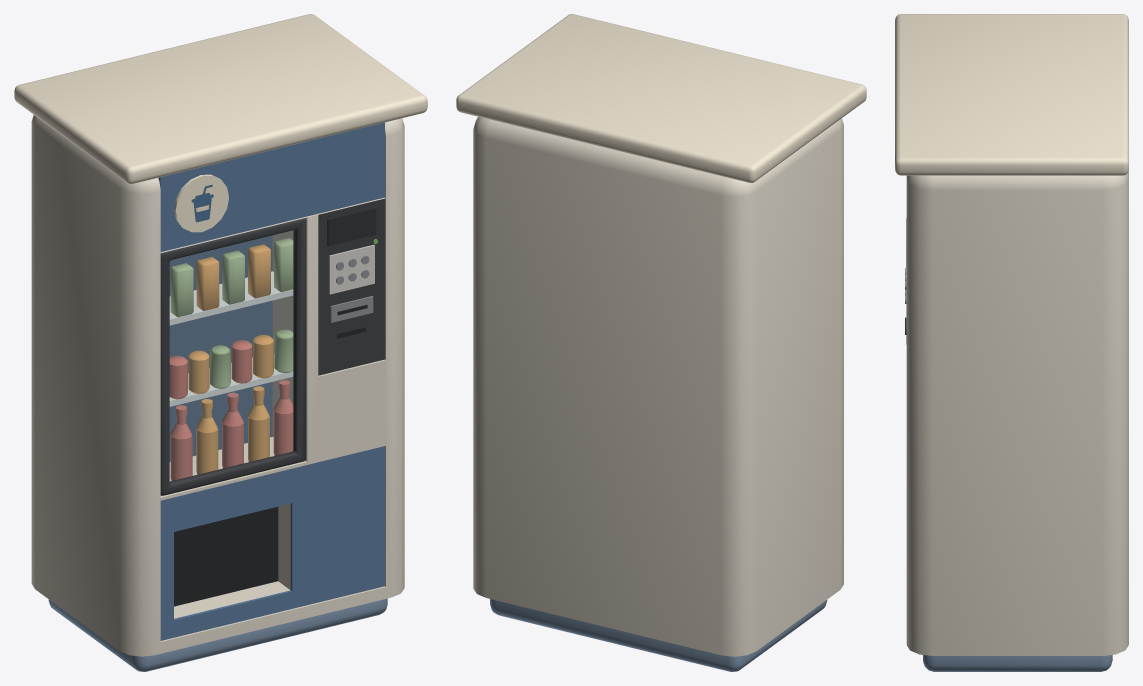
The model's file is distributeur.glb.
The picture shows the model from 3 angles, left to right: view 1: azimuth 30°, elevation 25°; view 2: azimuth 150°, elevation 25°; view 3: azimuth 270°, elevation 25°; orthographic projection.
Parts seen in each view (by area): view 1: DIS_Struct, DIS_Creme, DIS_Ardoise_Base, DIS_Vitre, DIS_Anthracite, DIS_Noir, DIS_Ardoise_Fonce, DIS_Prod_Ambre, DIS_Prod_Rouge, DIS_Prod_Vert, DIS_Ardoise_Clair, DIS_Etagere (+3 smaller); view 2: DIS_Struct, DIS_Creme, DIS_Ardoise_Clair; view 3: DIS_Struct, DIS_Creme, DIS_Ardoise_Clair.
Part boxes in pixels (x1,y1,x2,y2): DIS_Struct: [31, 115, 404, 656]; DIS_Creme: [14, 14, 427, 232]; DIS_Ardoise_Base: [158, 122, 384, 640]; DIS_Vitre: [170, 231, 292, 480]; DIS_Anthracite: [160, 198, 384, 495]; DIS_Noir: [174, 305, 367, 606]; DIS_Ardoise_Fonce: [169, 235, 272, 461]; DIS_Prod_Ambre: [188, 244, 273, 474]; DIS_Prod_Rouge: [169, 340, 293, 480]; DIS_Prod_Vert: [170, 238, 293, 388]; DIS_Ardoise_Clair: [48, 598, 387, 671]; DIS_Etagere: [169, 271, 293, 406]; DIS_Struct: [473, 117, 843, 656]; DIS_Creme: [456, 14, 866, 182]; DIS_Ardoise_Clair: [490, 599, 827, 671]; DIS_Struct: [906, 170, 1128, 655]; DIS_Creme: [895, 14, 1128, 175]; DIS_Ardoise_Clair: [923, 655, 1112, 671].
Bounding box in the file's own units: 1.07 × 1.78 × 0.715.
17 materials, 1 textured.
